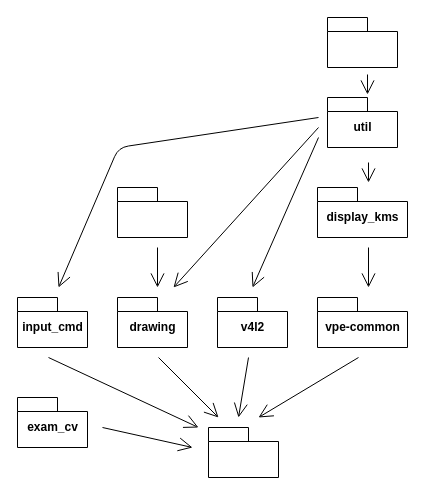
This 425x495 diagram has some shape labels left out. Each missing label, with the box of its shape:
font_8x8: (116, 186, 188, 238)
list: (326, 16, 398, 68)
main: (208, 426, 278, 478)
